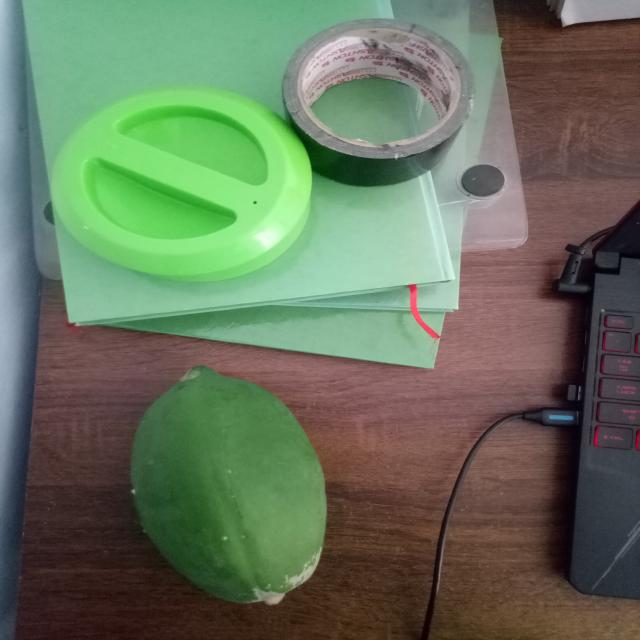Pepaya unrippen: (119, 356, 335, 612)
